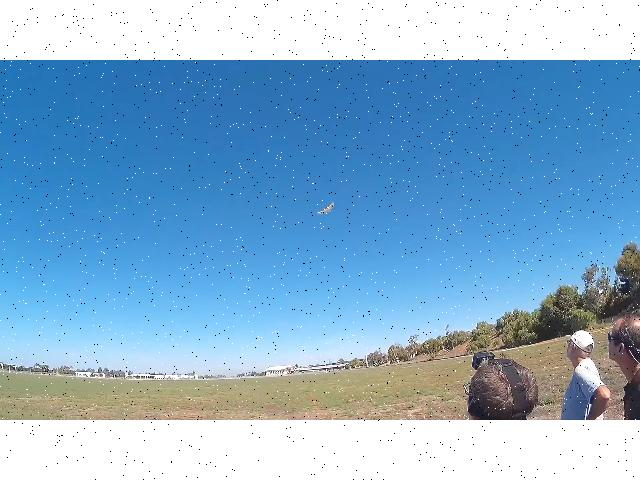Anti-Drone: (318, 202, 334, 214)
